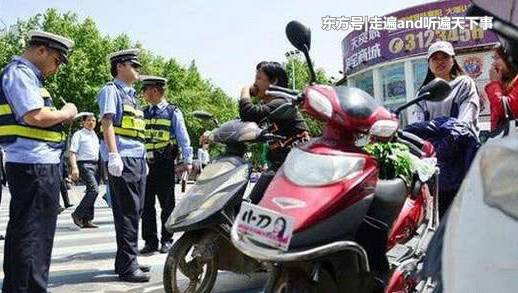non-vehicle: (233, 84, 440, 293), (157, 117, 277, 293)
